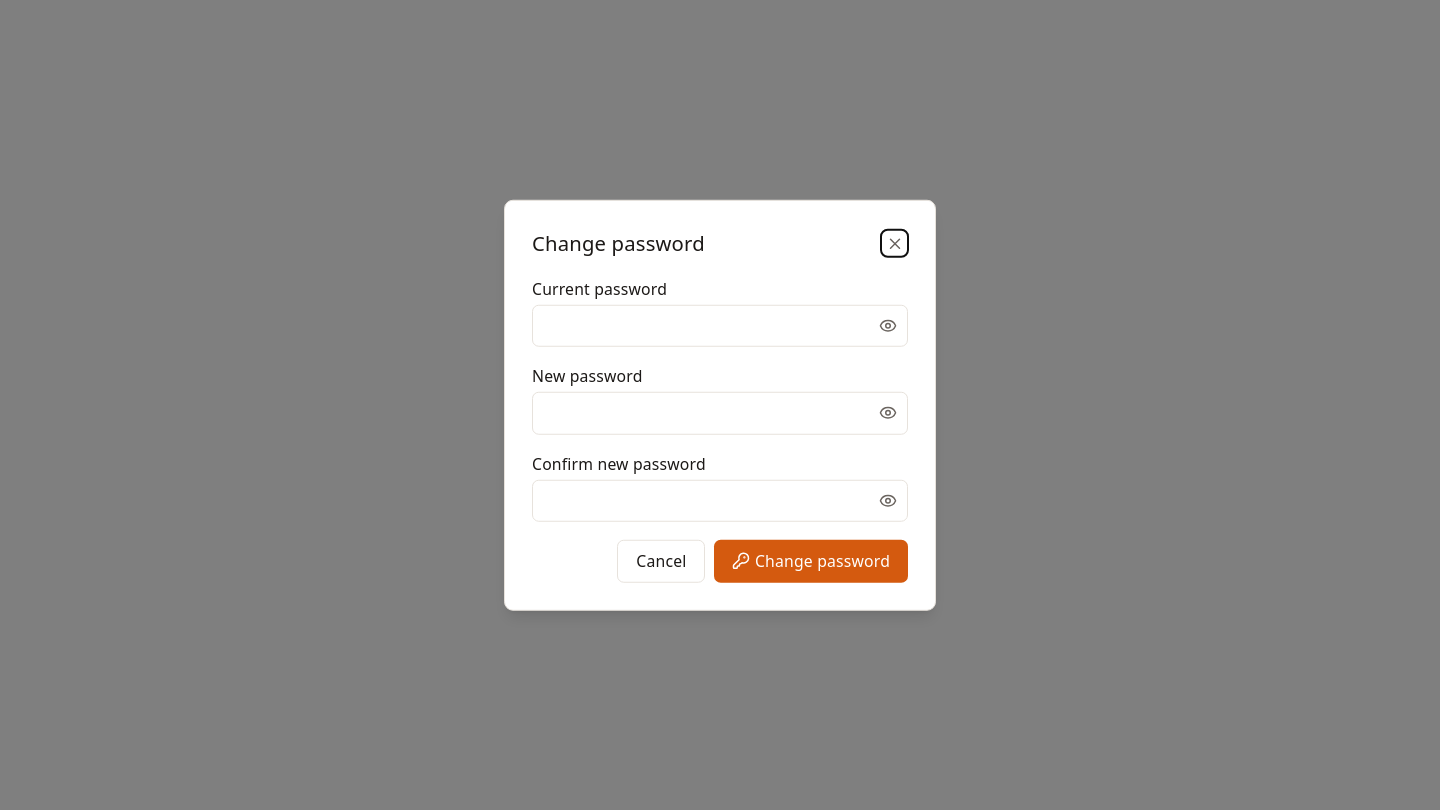
Test: ChangePasswordDialog › requires confirmation of the new password
Type "old-password" into the password field labelled "Current password" at (720, 326), box [532,304,908,347]
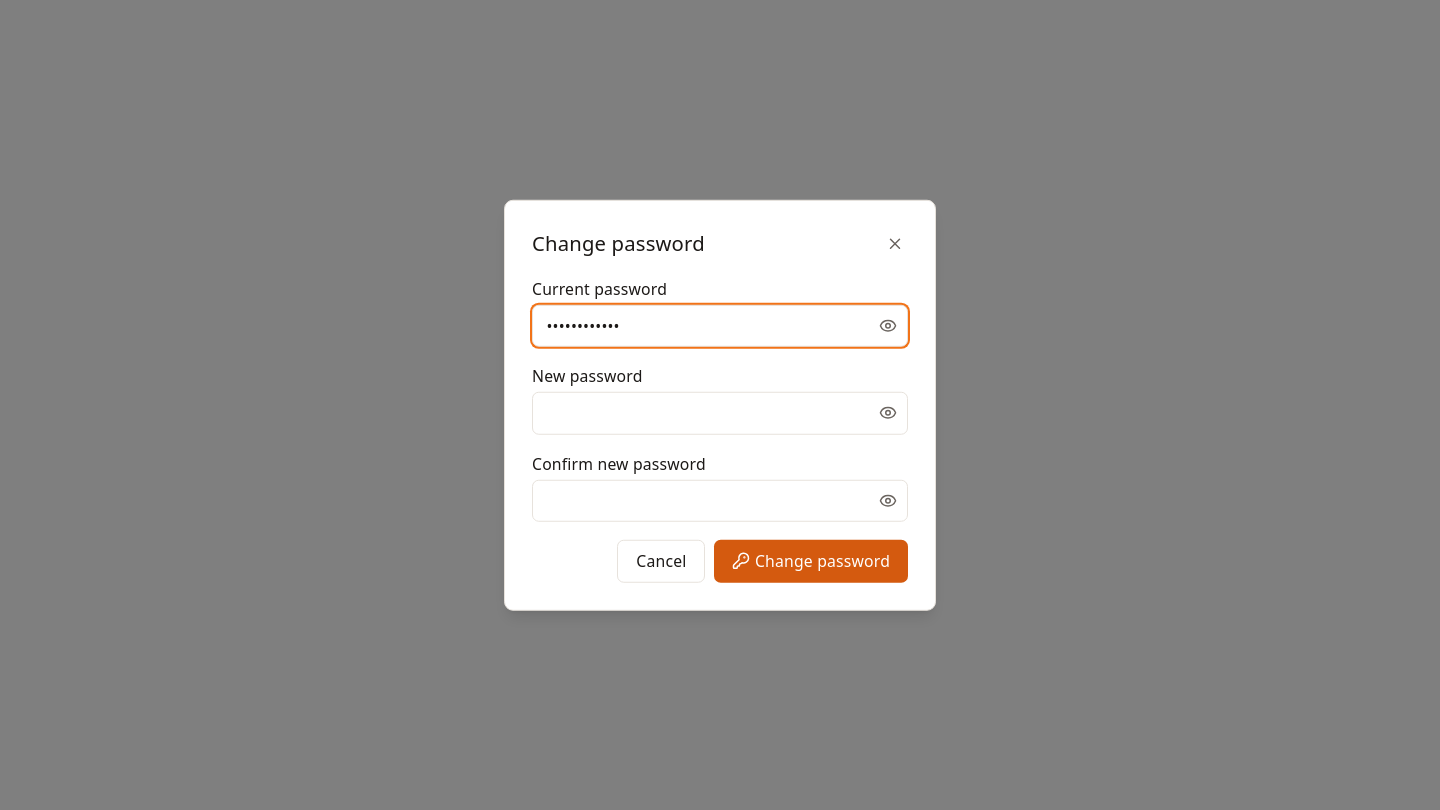
Type "new-password" into the password field labelled "New password" at (720, 413), box [532,392,908,434]
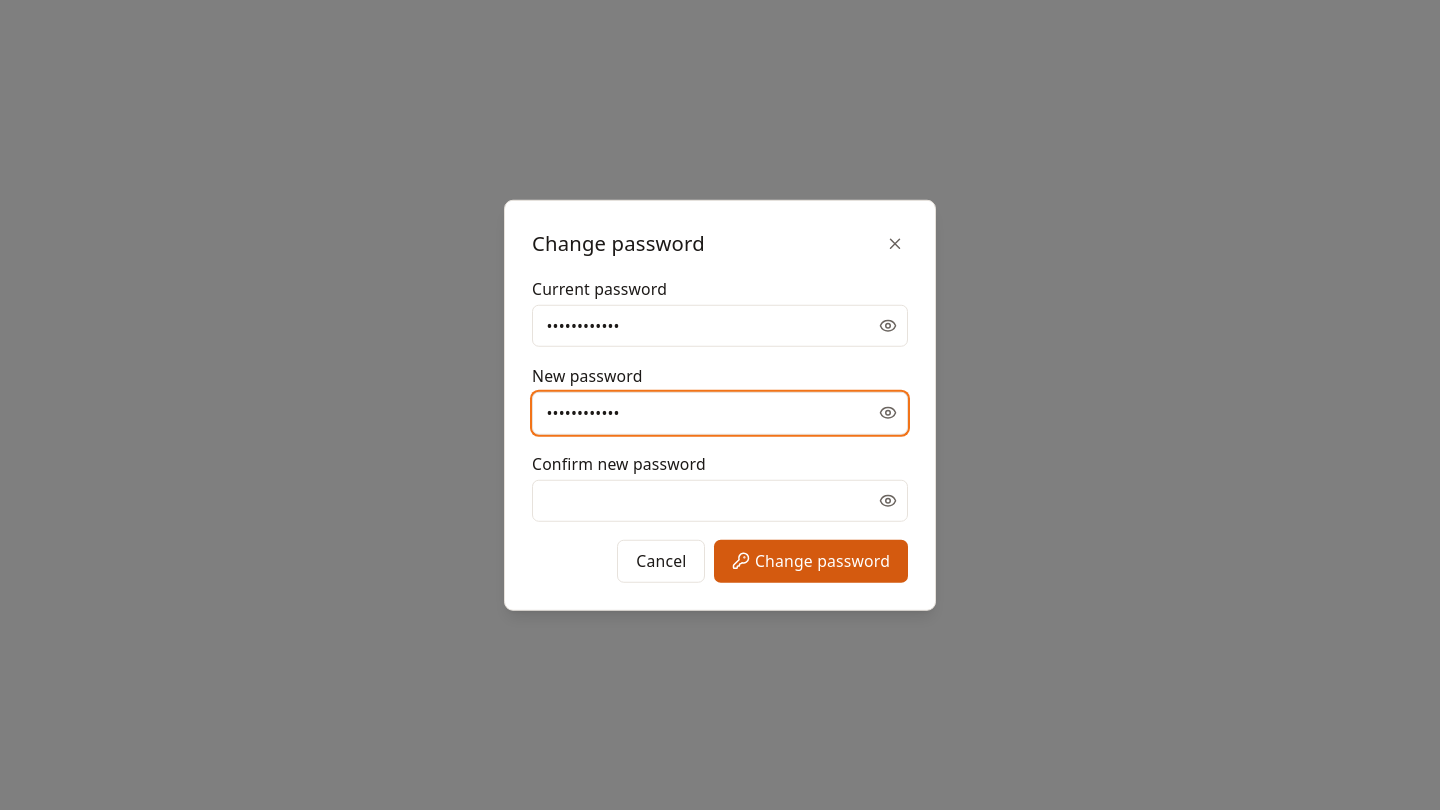
Click the button "Change password" at (811, 561), box [714,540,908,582]
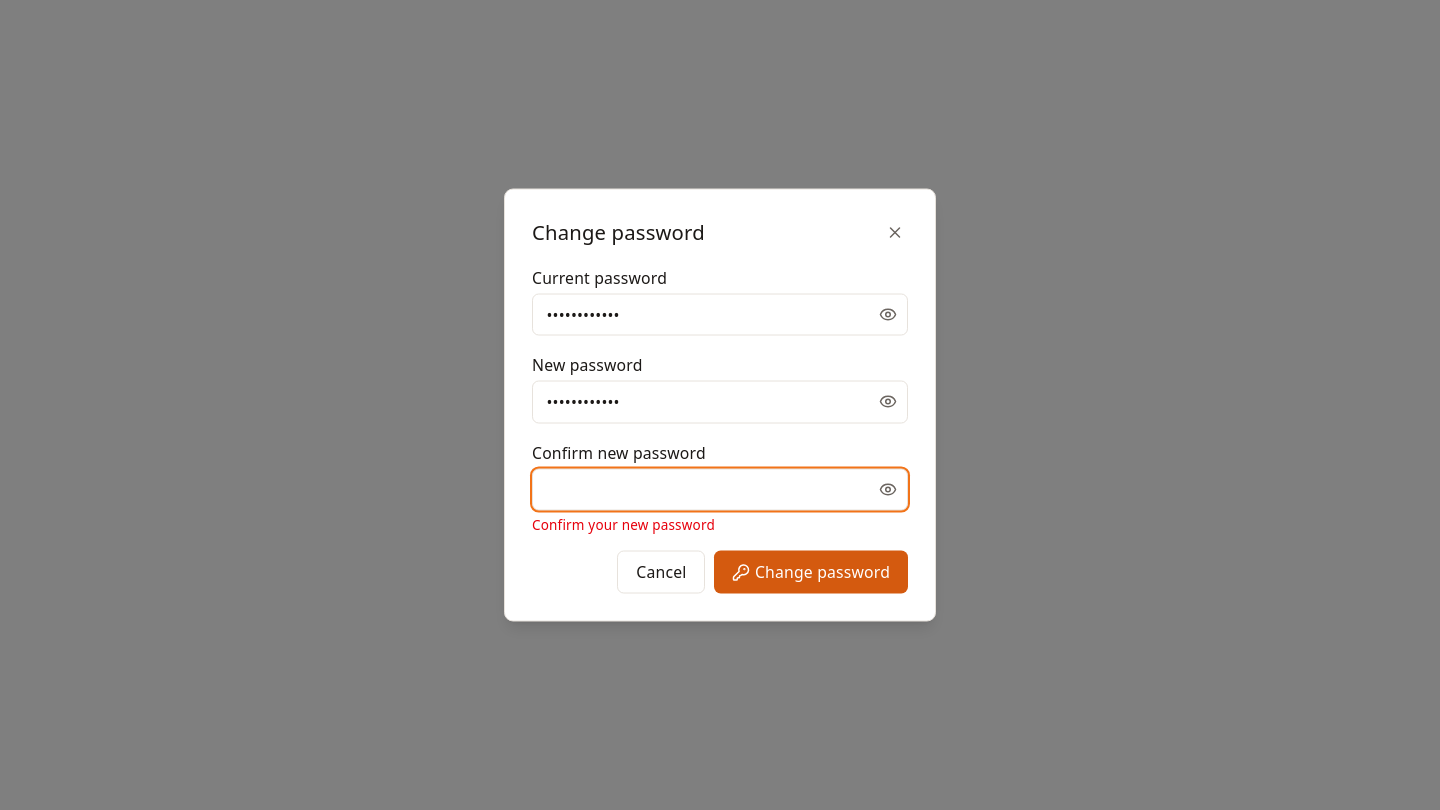
Now the text "Confirm your new password" is shown, box [532,515,715,533]
